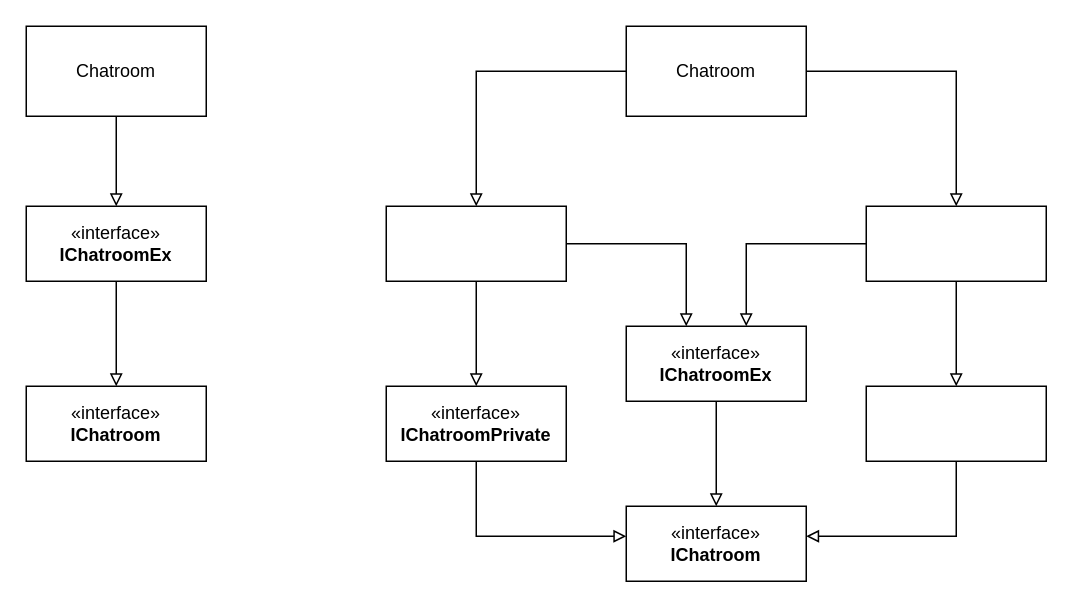
The diagram is 1073 pixels wide and 608 high, and some of its shapes have lost their labels. Here are the shapes that lost their labels. From the top down, the box of each, then its label:
(385, 205, 566, 281): «interface» IChatroomPrivateEx
(865, 205, 1046, 281): «interface» IChatroomPublicEx
(865, 385, 1046, 461): «interface» IChatroomPublic
